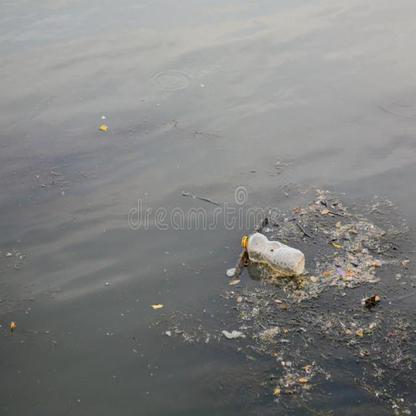plastic bottle: (241, 232, 305, 274)
